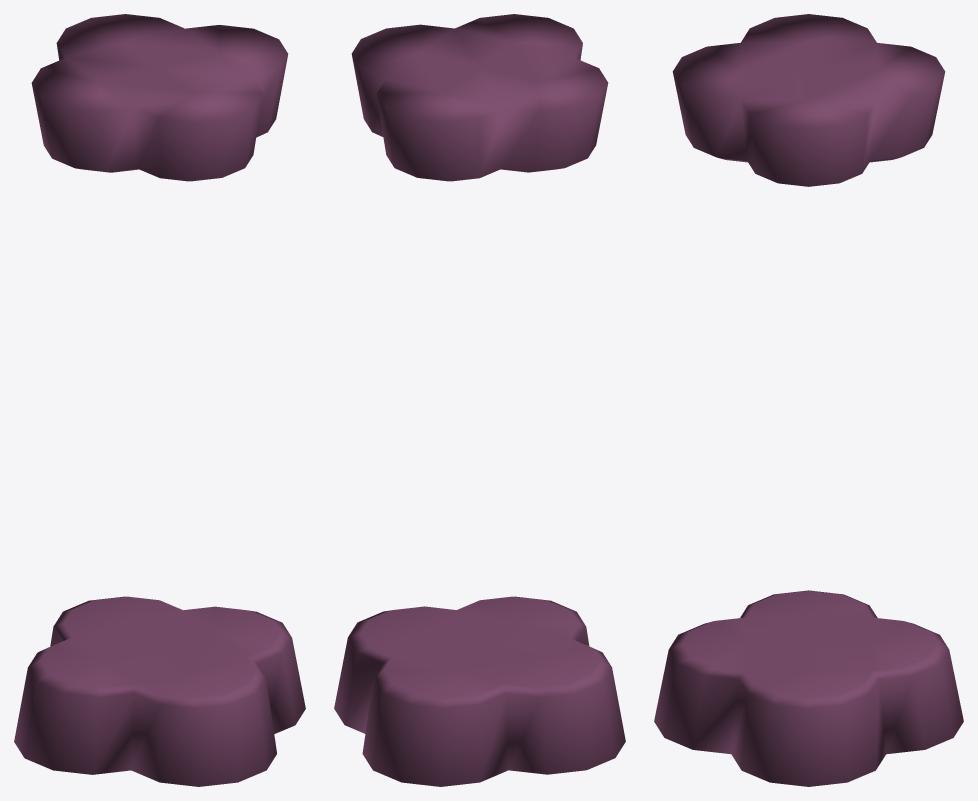
Rendered from Pillar_04_Base_Lod0.fbx.
3 renders of one model, left to right at view 1: azimuth 30°, elevation 25°; view 2: azimuth 150°, elevation 25°; view 3: azimuth 270°, elevation 25°, orthographic.
Visible parts, largest first — view 1: Pillar_04_Base_Lod0; view 2: Pillar_04_Base_Lod0; view 3: Pillar_04_Base_Lod0.
Boxes of the visible parts, x1=… form: Pillar_04_Base_Lod0: x1=14, y1=14, x2=305, y2=786; Pillar_04_Base_Lod0: x1=334, y1=14, x2=625, y2=786; Pillar_04_Base_Lod0: x1=654, y1=14, x2=963, y2=786.
Size of the model in its own units: 131 by 303 by 131.
